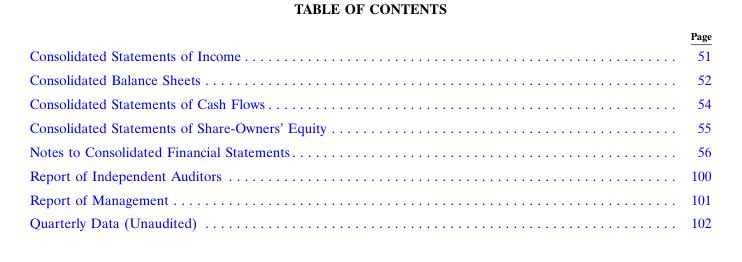table: (28, 29, 710, 230)
table column: (28, 29, 507, 230), (507, 29, 710, 230)
table column header: (28, 29, 710, 44)
table row: (28, 67, 710, 91), (28, 91, 710, 115), (28, 115, 710, 139), (28, 162, 710, 186), (28, 186, 710, 210), (28, 44, 710, 67), (28, 139, 710, 162), (28, 210, 710, 230), (28, 29, 710, 44)
